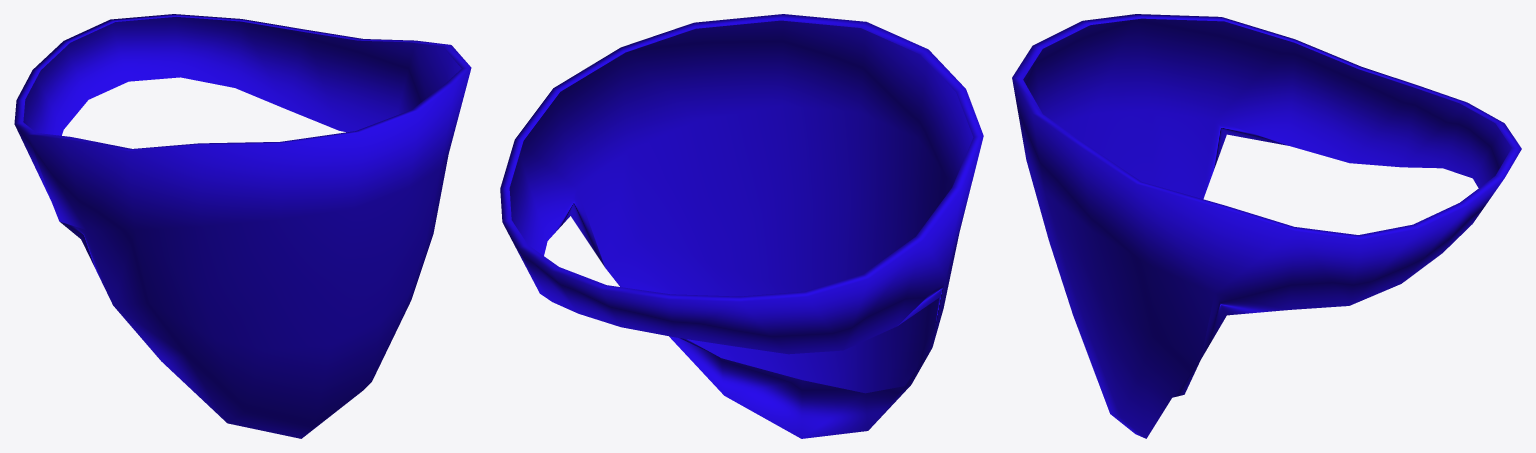
Rendered from FaceBandana.fbx.
3 renders of one model, left to right at view 1: azimuth 30°, elevation 25°; view 2: azimuth 150°, elevation 25°; view 3: azimuth 270°, elevation 25°, orthographic. The views are drawn at different scales.
Parts seen in each view (by area): view 1: FaceBandana; view 2: FaceBandana; view 3: FaceBandana.
Part boxes in pixels (x1=…): FaceBandana: x1=14, y1=14, x2=471, y2=438; FaceBandana: x1=500, y1=14, x2=983, y2=438; FaceBandana: x1=1012, y1=14, x2=1521, y2=438.
Bounding box in the file's own units: 53.61 × 46.35 × 60.16.
